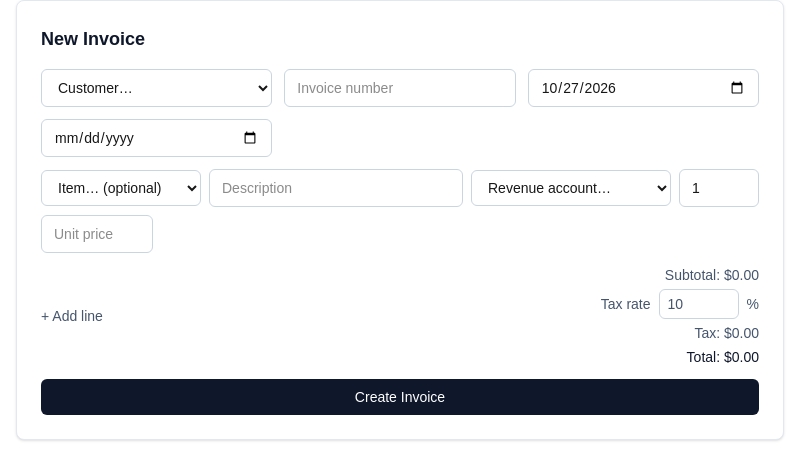
Scenario: InvoiceForm › computes subtotal, tax, and total from lines and the tax rate
The width and height of the screenshot is (801, 458).
Select "4000 — Sales" in the 3rd dropdown at (571, 188), box [471,170,671,206]
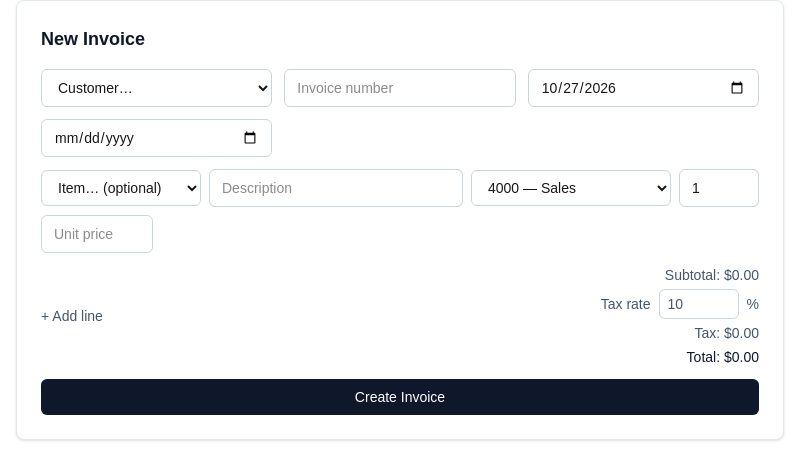
Replace the text in the number field with placeholder "Qty" with "2" at (719, 188), box [679,169,759,207]
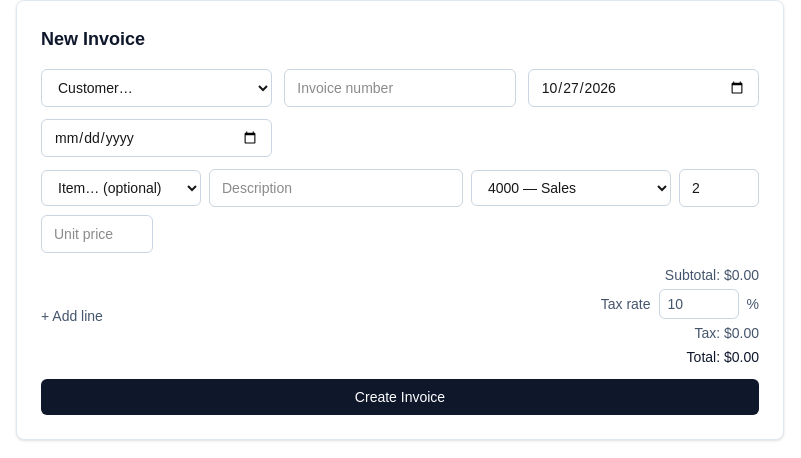
Type "50" into the number field with placeholder "Unit price" at (97, 234), box [41,215,153,253]
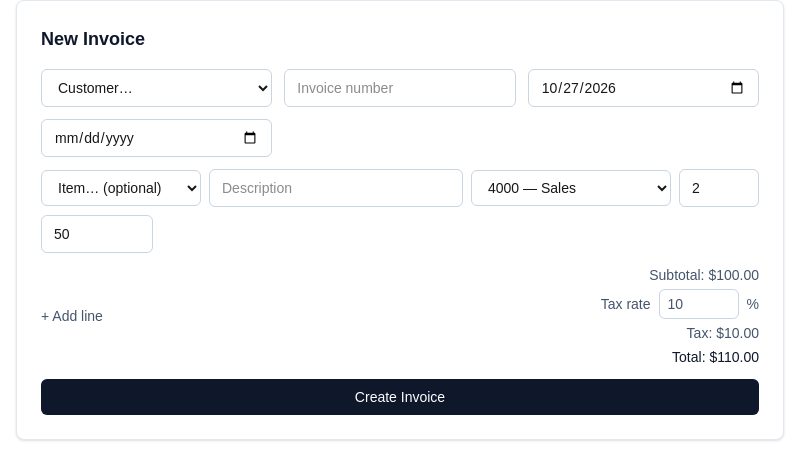
Expected: the text "Subtotal: $100.00" is shown, [649,265,759,285]
Expected: the text "Tax: $10.00" is shown, [687,323,759,343]
Expected: the text "Total: $110.00" is shown, [672,347,759,367]
